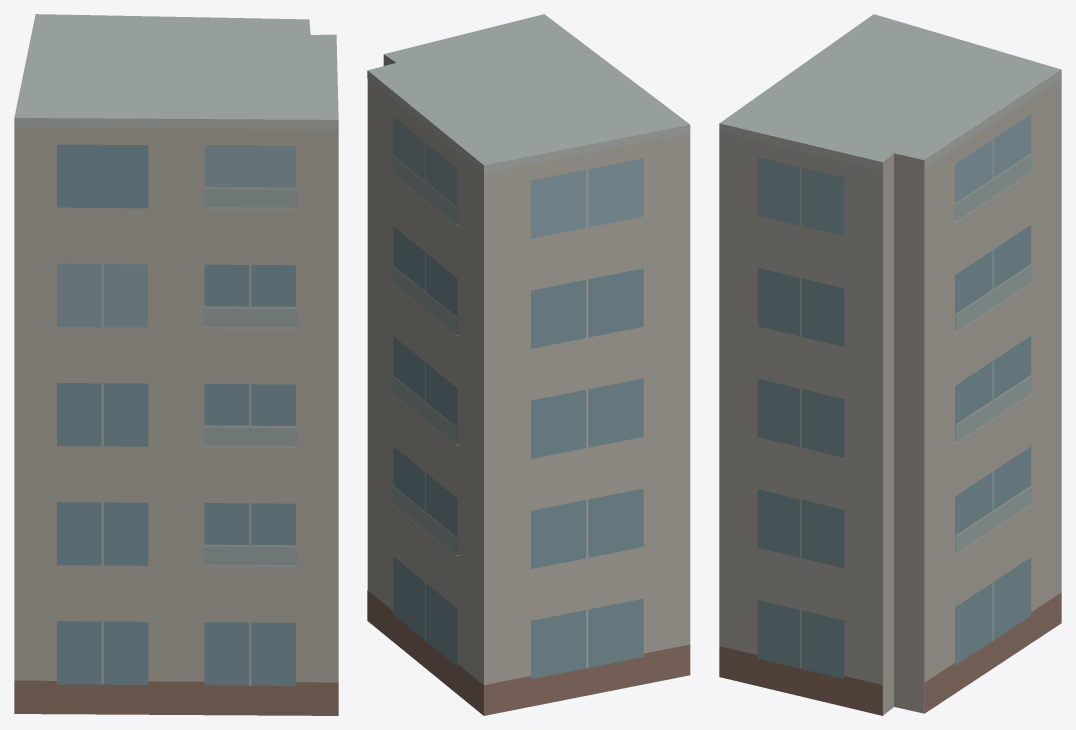
Rendered from survey-upis-32844698.glb.
The picture shows the model from 3 angles, left to right: view 1: azimuth 30°, elevation 25°; view 2: azimuth 150°, elevation 25°; view 3: azimuth 270°, elevation 25°; orthographic projection. The views are drawn at different scales.
Parts seen in each view (by area): view 1: survey-upis-32844698.tmp; view 2: survey-upis-32844698.tmp; view 3: survey-upis-32844698.tmp.
Part boxes in pixels (box(x1,y1,x2,y2)): survey-upis-32844698.tmp: box(14, 14, 338, 715); survey-upis-32844698.tmp: box(367, 14, 690, 715); survey-upis-32844698.tmp: box(719, 14, 1061, 715).
Bounding box in the file's own units: 9.14 × 15.9 × 8.92.
